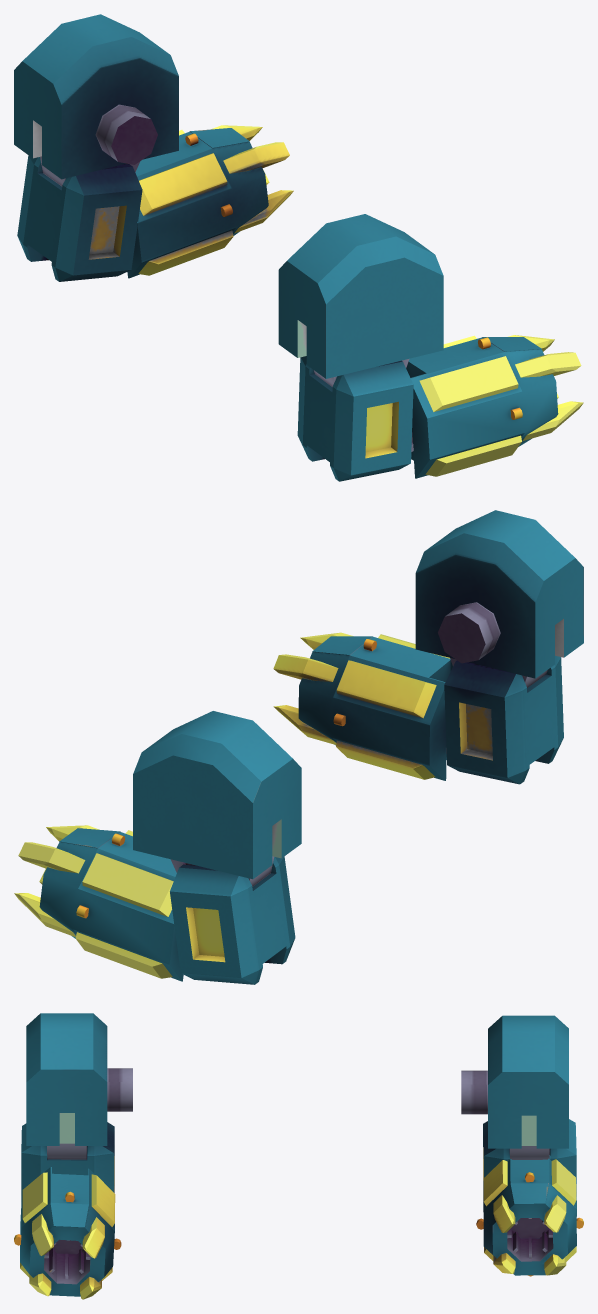
Rendered from Player_Attack_Arm18.obj.
3 views of the same model, one above another, from view 1: azimuth 30°, elevation 25°; view 2: azimuth 150°, elevation 25°; view 3: azimuth 270°, elevation 25° (orthographic). The views are drawn at different scales.
Parts seen in each view (by area): view 1: Object003, Object005, Object001, Object007, Object006, Object002; view 2: Object003, Object005, Object001, Object007, Object006, Object002; view 3: Object005, Object003, Object001, Object007, Object002, Object006.
Boxes of the visible parts, x1,y1,x2,y2 form: Object003: (278,214,443,378); Object005: (14,14,178,179); Object001: (406,335,583,478); Object007: (127,125,293,278); Object006: (17,155,142,281); Object002: (297,356,413,481); Object003: (415,510,583,678); Object005: (133,711,301,879); Object001: (273,632,452,780); Object007: (14,825,183,981); Object006: (170,856,295,984); Object002: (444,655,563,784); Object005: (461,1015,568,1148); Object003: (26,1013,132,1145); Object001: (14,1167,121,1299); Object007: (476,1155,583,1276); Object002: (21,1122,114,1201); Object006: (483,1119,576,1216).
Bounding box in the file's own units: 38.5 × 35.19 × 83.71.
Materials: 1 (1 with a texture image).
